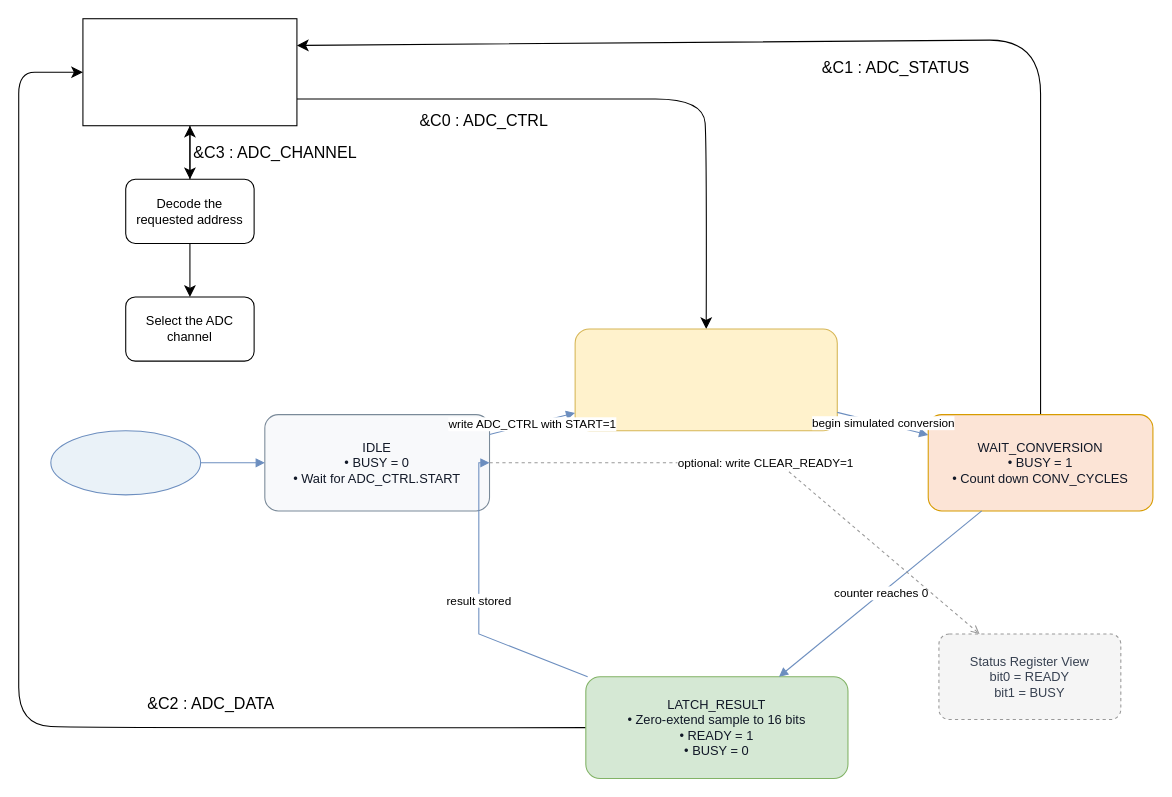
Some shapes in this 1172 by 797 pixel diagram are drawn without their labels. The shapes that lost their labels are listed below. From the top down, each one's box as (x1, y1, x2, y2) in pixels, then its label:
(82, 18, 297, 126): SCOMP
(574, 328, 837, 431): START_CONVERSION • Clear READY • Capture channel • Generate next sample (stub)
(50, 430, 201, 495): Reset / Power-Up
